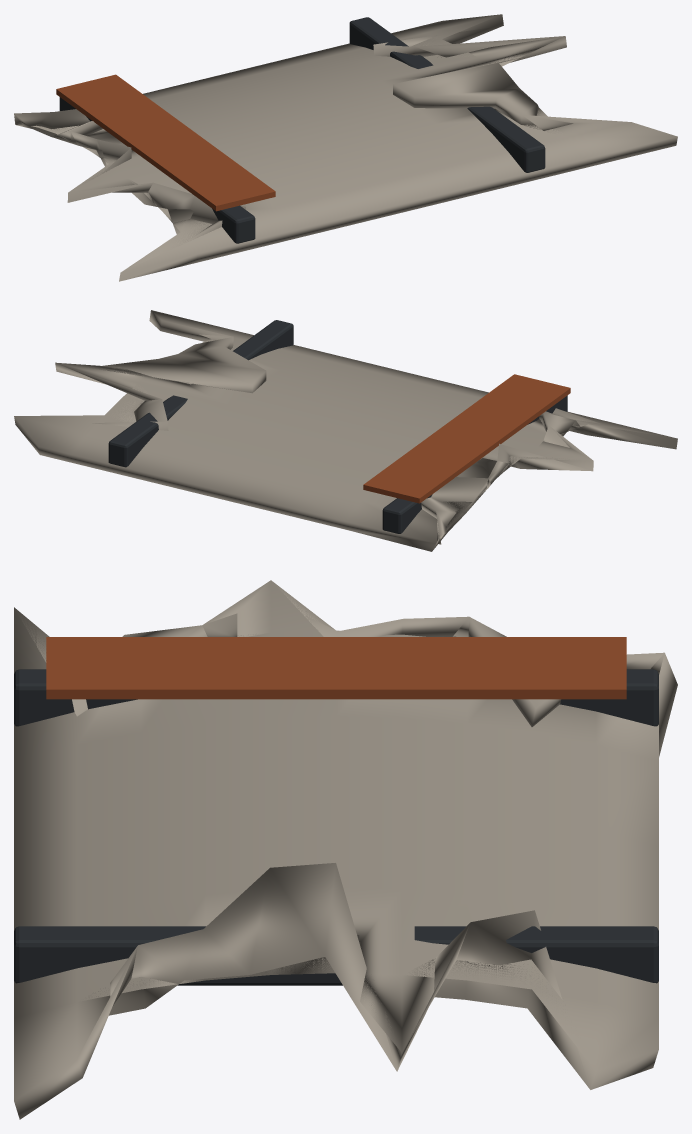
The model's file is prop_shard_2.glb.
The picture shows the model from 3 angles, top to bottom: view 1: azimuth 30°, elevation 25°; view 2: azimuth 150°, elevation 25°; view 3: azimuth 270°, elevation 25°; orthographic projection. The views are drawn at different scales.
Parts seen in each view (by area): view 1: shard_2_skin, shard_2_band, shard_2_rib8, shard_2_rib-8; view 2: shard_2_skin, shard_2_band, shard_2_rib8, shard_2_rib-8; view 3: shard_2_skin, shard_2_band, shard_2_rib8, shard_2_rib-8.
Boxes of the visible parts, left/top/right/bottom form: shard_2_skin: left=14, top=14, right=677, bottom=281; shard_2_band: left=56, top=74, right=275, bottom=211; shard_2_rib8: left=349, top=17, right=545, bottom=172; shard_2_rib-8: left=59, top=97, right=255, bottom=243; shard_2_skin: left=14, top=310, right=677, bottom=551; shard_2_band: left=363, top=374, right=570, bottom=503; shard_2_rib8: left=108, top=320, right=293, bottom=467; shard_2_rib-8: left=382, top=395, right=567, bottom=533; shard_2_skin: left=14, top=580, right=677, bottom=1119; shard_2_band: left=46, top=637, right=626, bottom=699; shard_2_rib8: left=14, top=926, right=658, bottom=985; shard_2_rib-8: left=14, top=669, right=658, bottom=726.
Size of the model in its own units: 3.27 by 0.2566 by 1.86.
